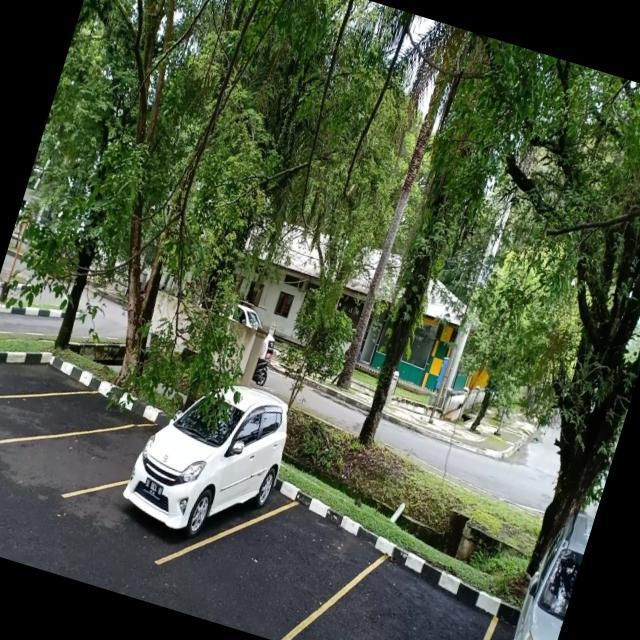empty: (201, 478, 362, 640), (316, 534, 507, 640), (38, 410, 144, 510), (4, 366, 110, 454)
occupied: (99, 395, 288, 583)
